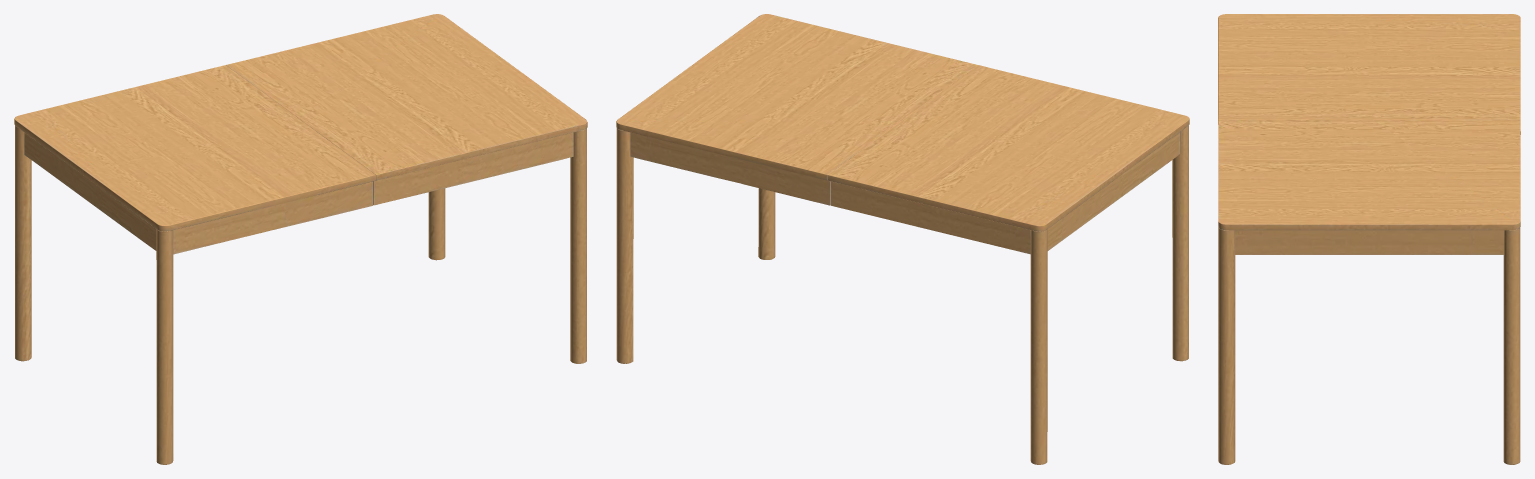
The picture shows the model from 3 angles, left to right: view 1: azimuth 30°, elevation 25°; view 2: azimuth 150°, elevation 25°; view 3: azimuth 270°, elevation 25°; orthographic projection.
Visible parts, largest first — view 1: ASY_LPT02_40593882_S01_NV01, ASY_LPT01_40593882_S01_NV01; view 2: ASY_LPT02_40593882_S01_NV01, ASY_LPT01_40593882_S01_NV01; view 3: ASY_LPT01_40593882_S01_NV01, ASY_LPT02_40593882_S01_NV01.
Boxes of the visible parts, bbox=[...] form: ASY_LPT02_40593882_S01_NV01: bbox=[14, 65, 375, 464]; ASY_LPT01_40593882_S01_NV01: bbox=[226, 14, 587, 363]; ASY_LPT02_40593882_S01_NV01: bbox=[828, 65, 1189, 464]; ASY_LPT01_40593882_S01_NV01: bbox=[616, 14, 977, 363]; ASY_LPT01_40593882_S01_NV01: bbox=[1218, 119, 1520, 464]; ASY_LPT02_40593882_S01_NV01: bbox=[1218, 14, 1520, 124].
Bounding box in the file's own units: 1.4 × 0.7496 × 0.8504.
4 materials, 4 textured.
